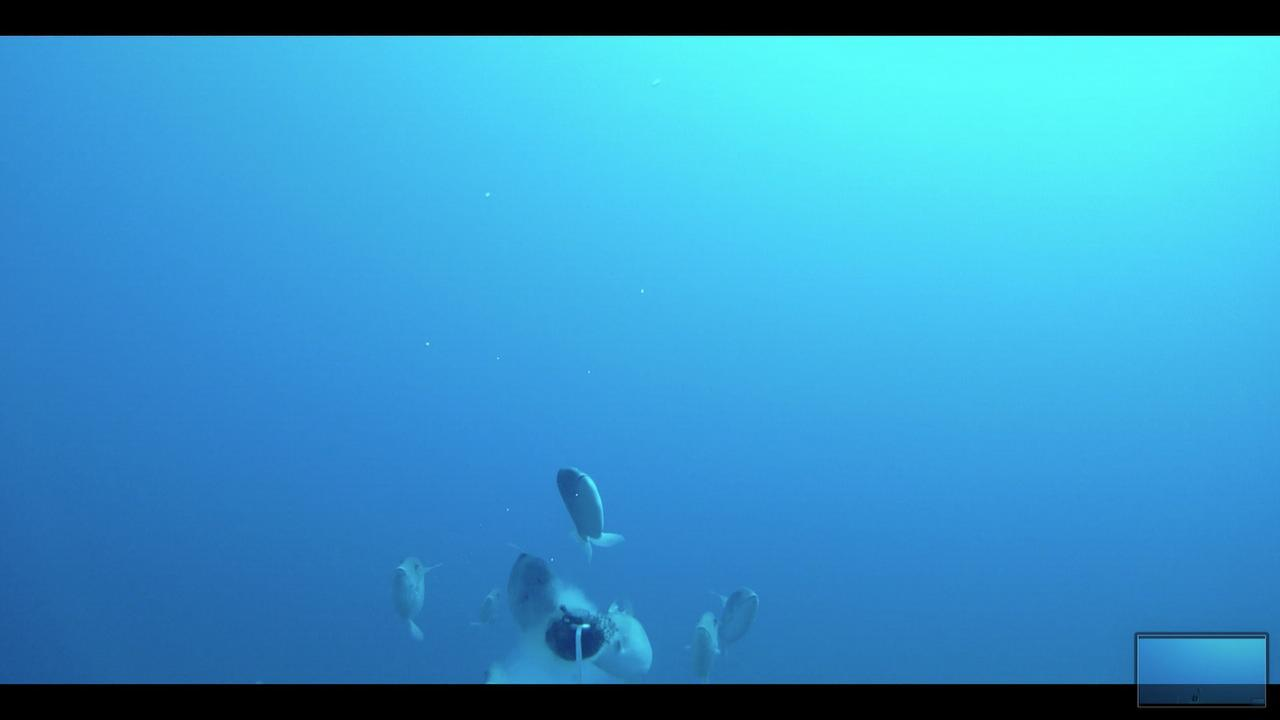balistes: (550, 461, 629, 562), (586, 590, 662, 678), (493, 540, 559, 639), (387, 547, 443, 648), (710, 580, 760, 662), (679, 600, 721, 682)
